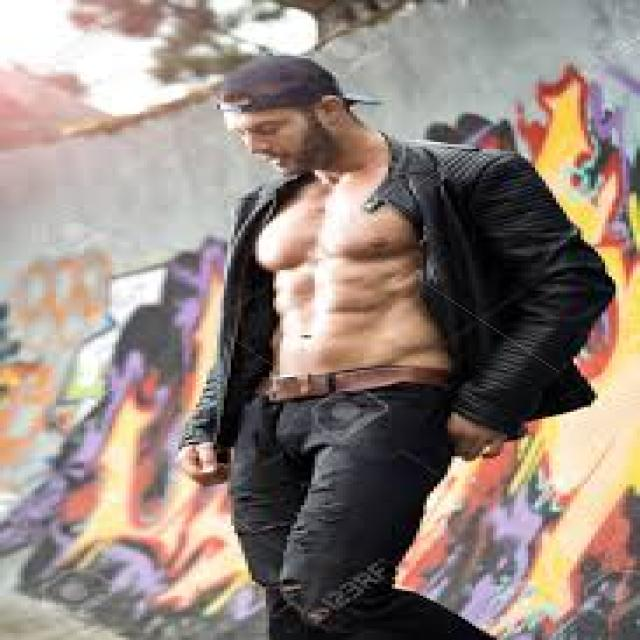cap: (213, 51, 385, 177)
